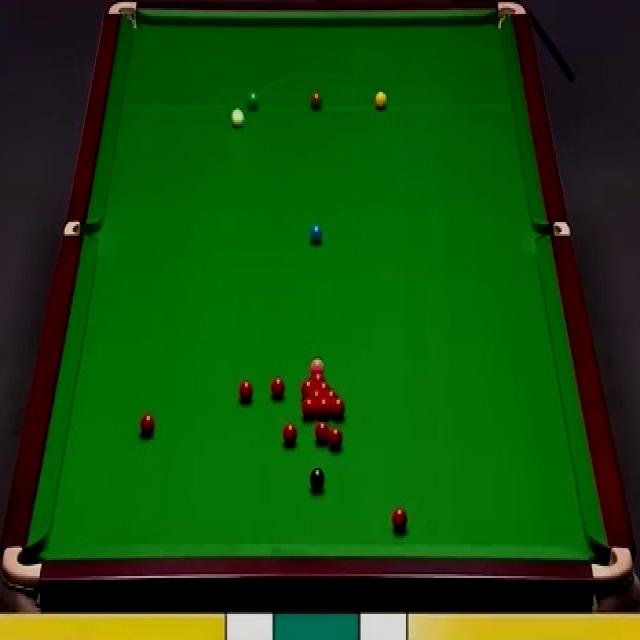black-ball: (310, 467, 326, 493)
blue-ball: (310, 222, 325, 244)
brown-ball: (310, 90, 322, 110)
green-ball: (247, 89, 260, 110)
pink-ball: (306, 356, 322, 370)
red-ball: (392, 507, 408, 534), (238, 376, 254, 403), (270, 375, 286, 401), (282, 422, 299, 446), (138, 414, 155, 437), (328, 426, 344, 449), (301, 397, 317, 419), (315, 421, 329, 444), (318, 398, 331, 420), (332, 398, 345, 417), (300, 380, 316, 394), (309, 388, 325, 400), (311, 370, 325, 382), (324, 390, 338, 400), (318, 380, 329, 390)
white-ball: (229, 107, 246, 129)
yellow-ball: (373, 91, 386, 111)
